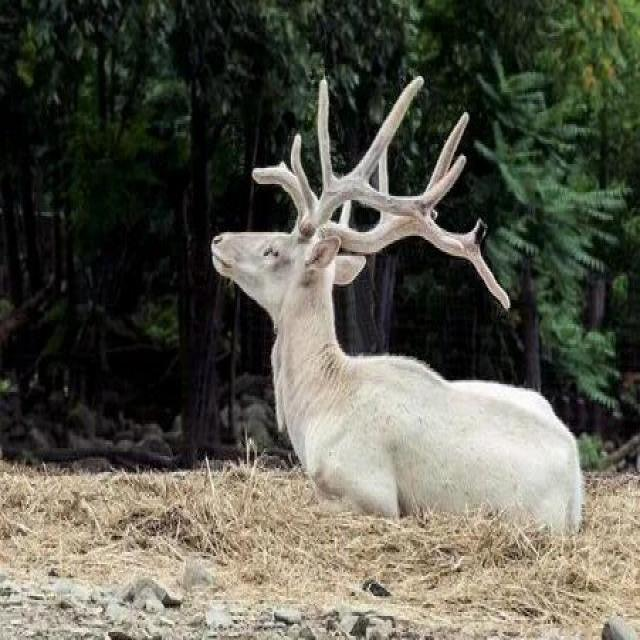deer: (212, 133, 607, 539)
